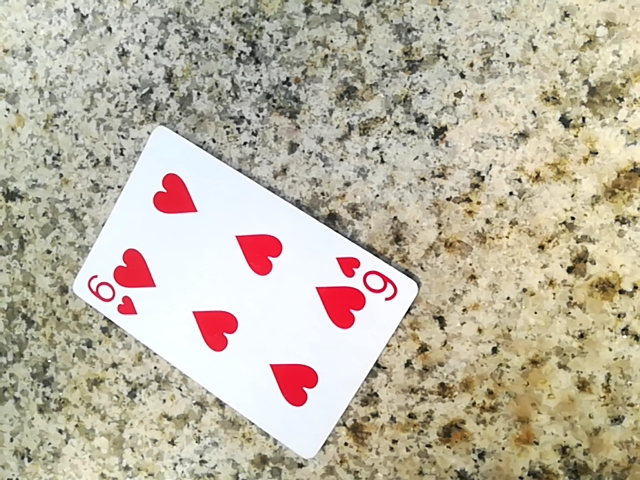hx 6: (76, 117, 415, 452)
